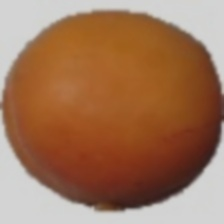apricot: (49, 40, 217, 224)
